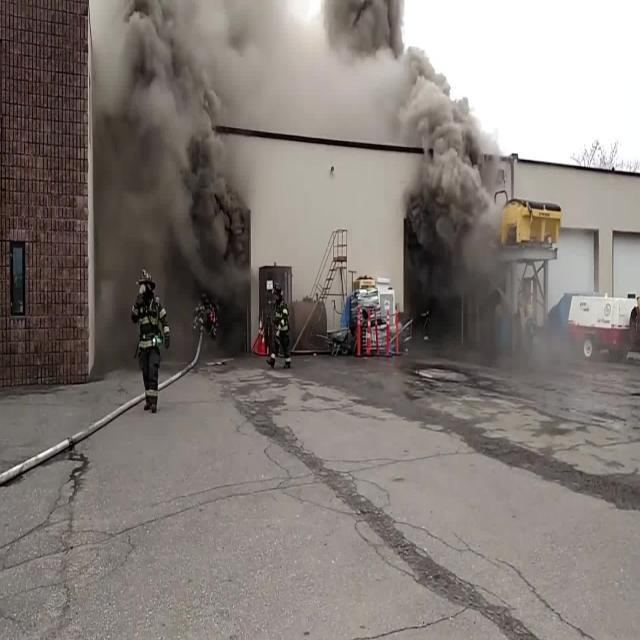Smoke: (280, 11, 487, 272), (85, 0, 235, 294), (121, 21, 247, 322)
